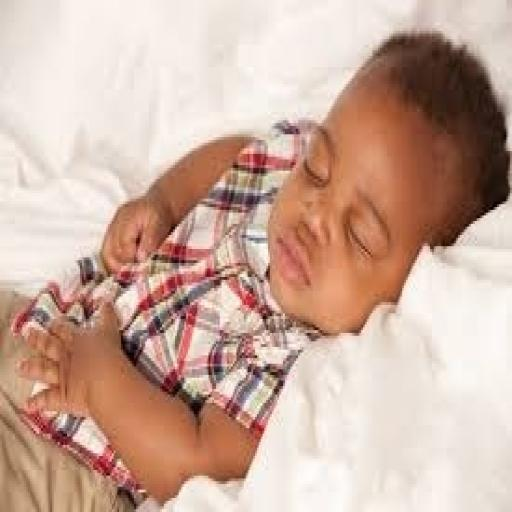sleeping: (9, 25, 510, 509)
